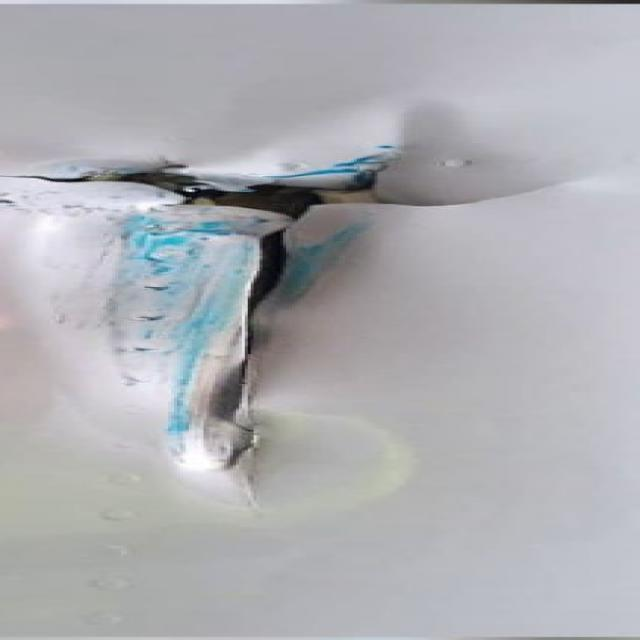crack: (54, 149, 559, 509)
